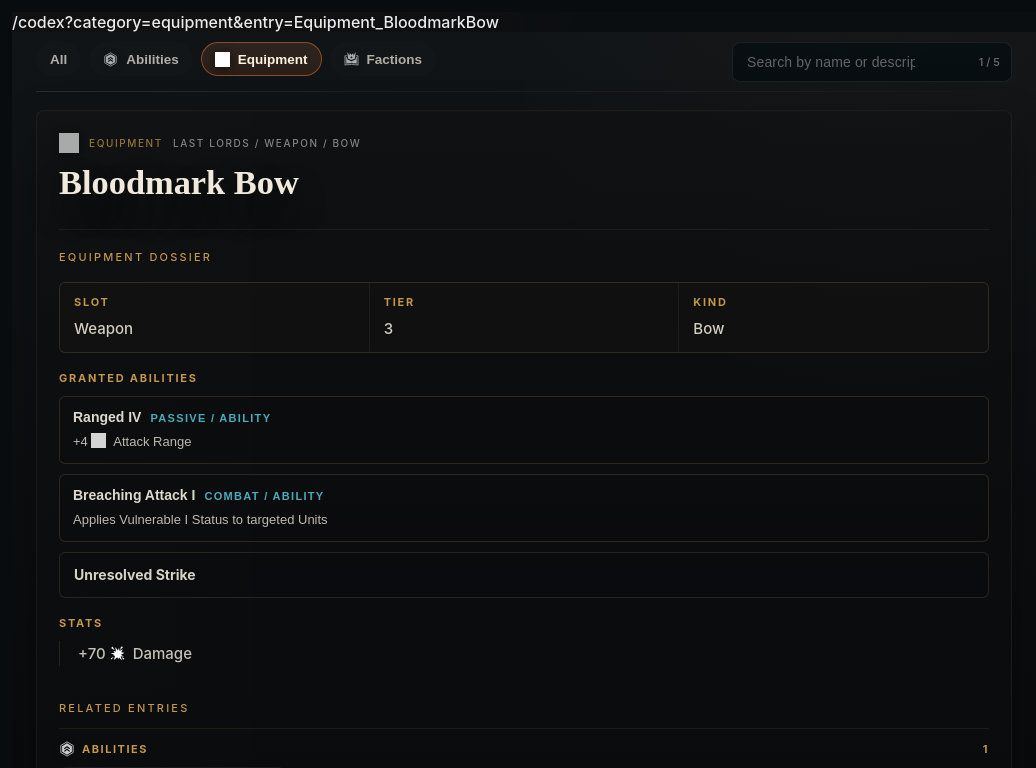
Test: CodexPage rich granted ability enrichment › previews resolved granted abilities on Equipment details without repeating them in Related Entries
Expected: the heading "Bloodmark Bow" is shown, x1=59 y1=163 x2=299 y2=201
Expected: the button "Ranged IV Passive / Ability +4 Attack Range" is shown, x1=59 y1=396 x2=989 y2=464
What coordinates should you click on to do the following:
click the button named "Breaching Attack I Combat / Ability Applies Vulnerable I Status to targeted Units"
I would click on:
 (134, 495)
Its box is x1=59 y1=474 x2=989 y2=542.
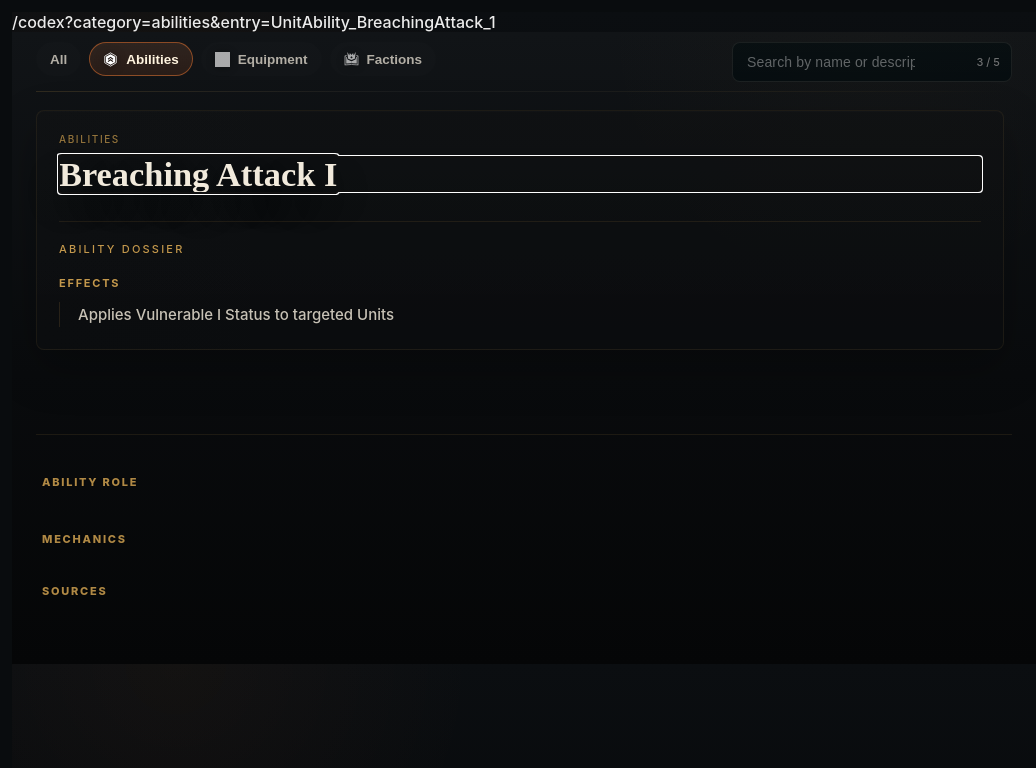
Expected: the heading "Breaching Attack I" is shown, x1=59 y1=155 x2=337 y2=193
Expected: the text with test id "location-probe" reads "/codex?category=abilities&entry=UnitAbility_BreachingAttack_1", x1=12 y1=12 x2=496 y2=32
